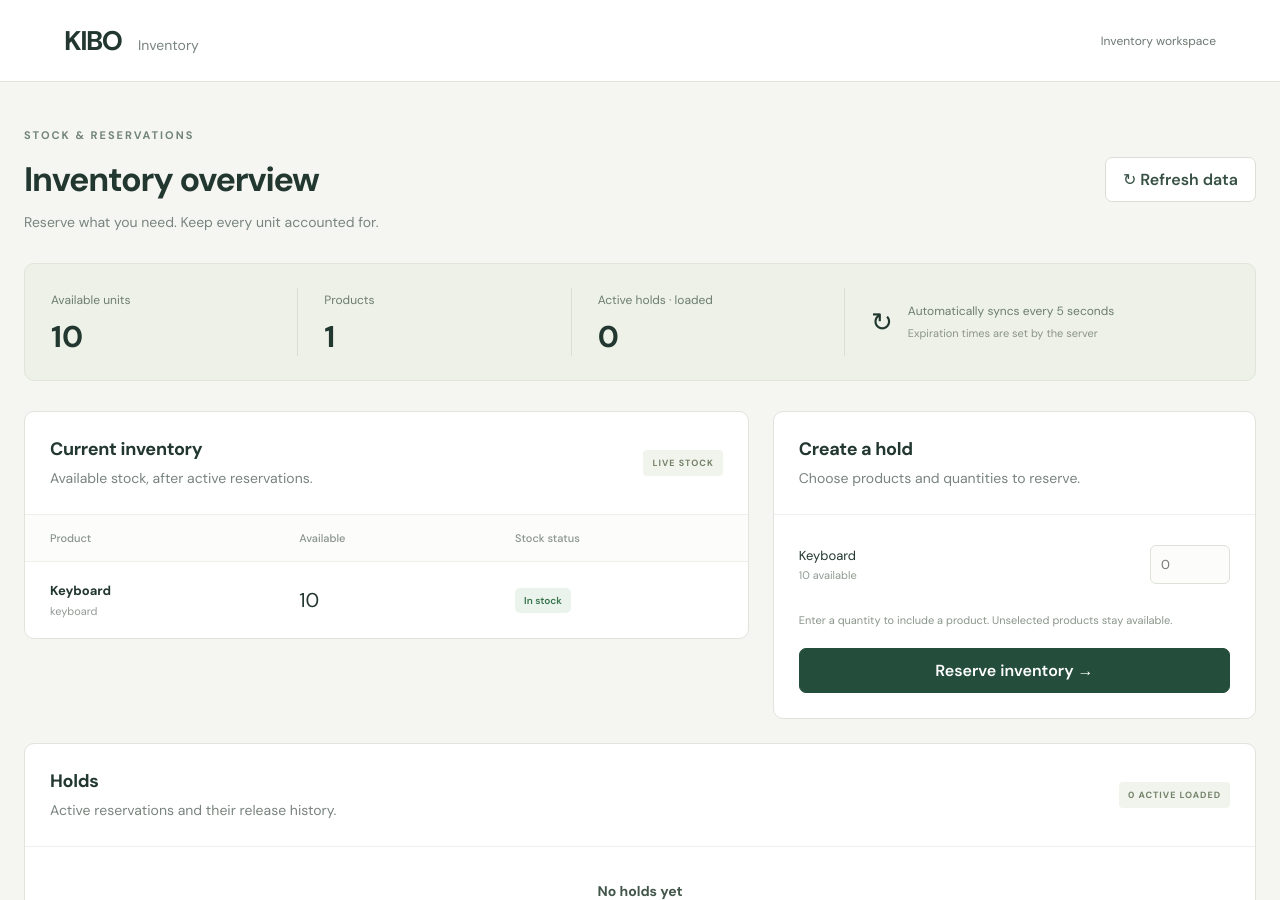
Test: inventory workflow › surfaces API errors and preserves the entered quantities
Type "2" into the number field named "Quantity for Keyboard" at (1190, 565), box 1150,545 -> 1230,584
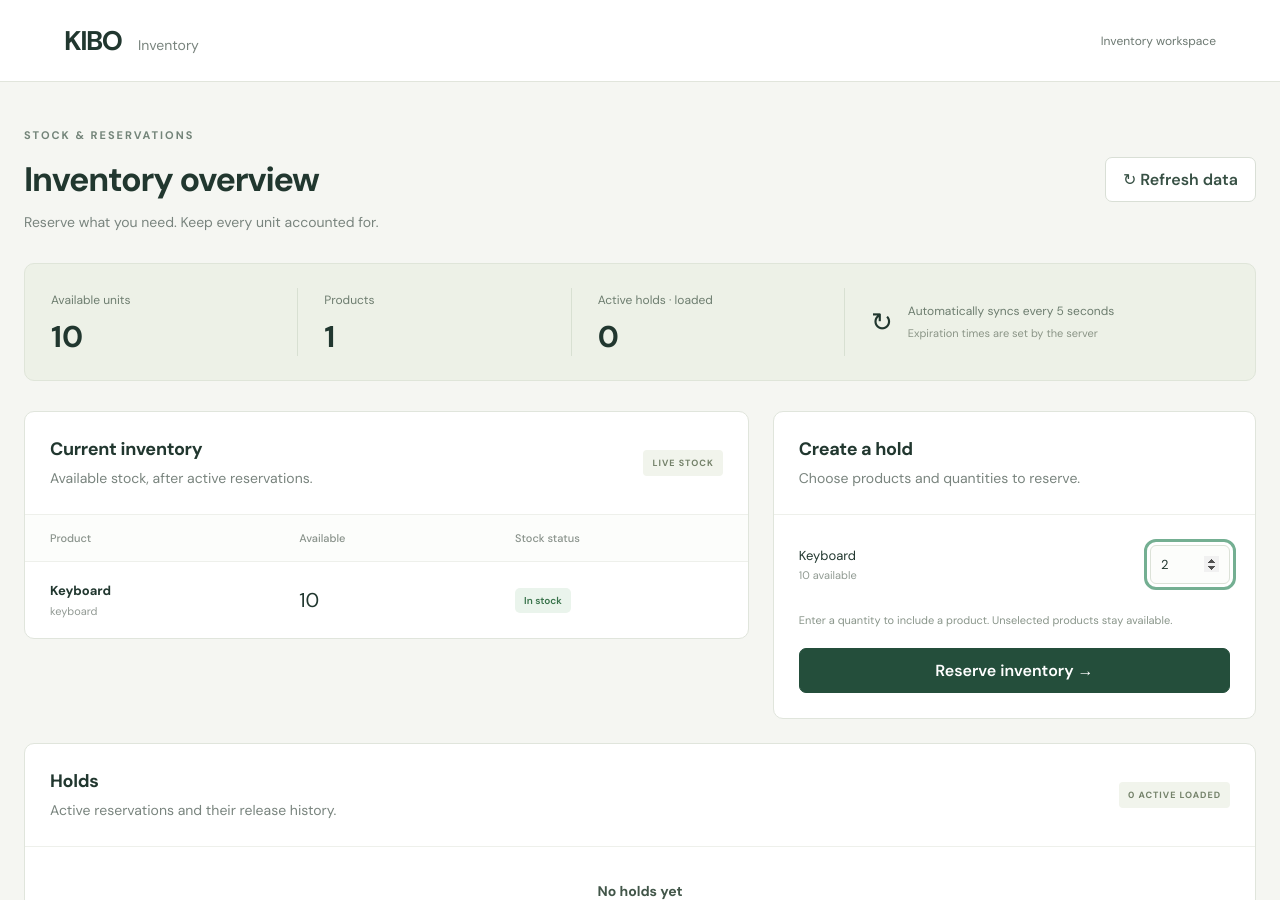
Click the button "Reserve inventory →" at (1014, 670), box 799,648 -> 1230,693
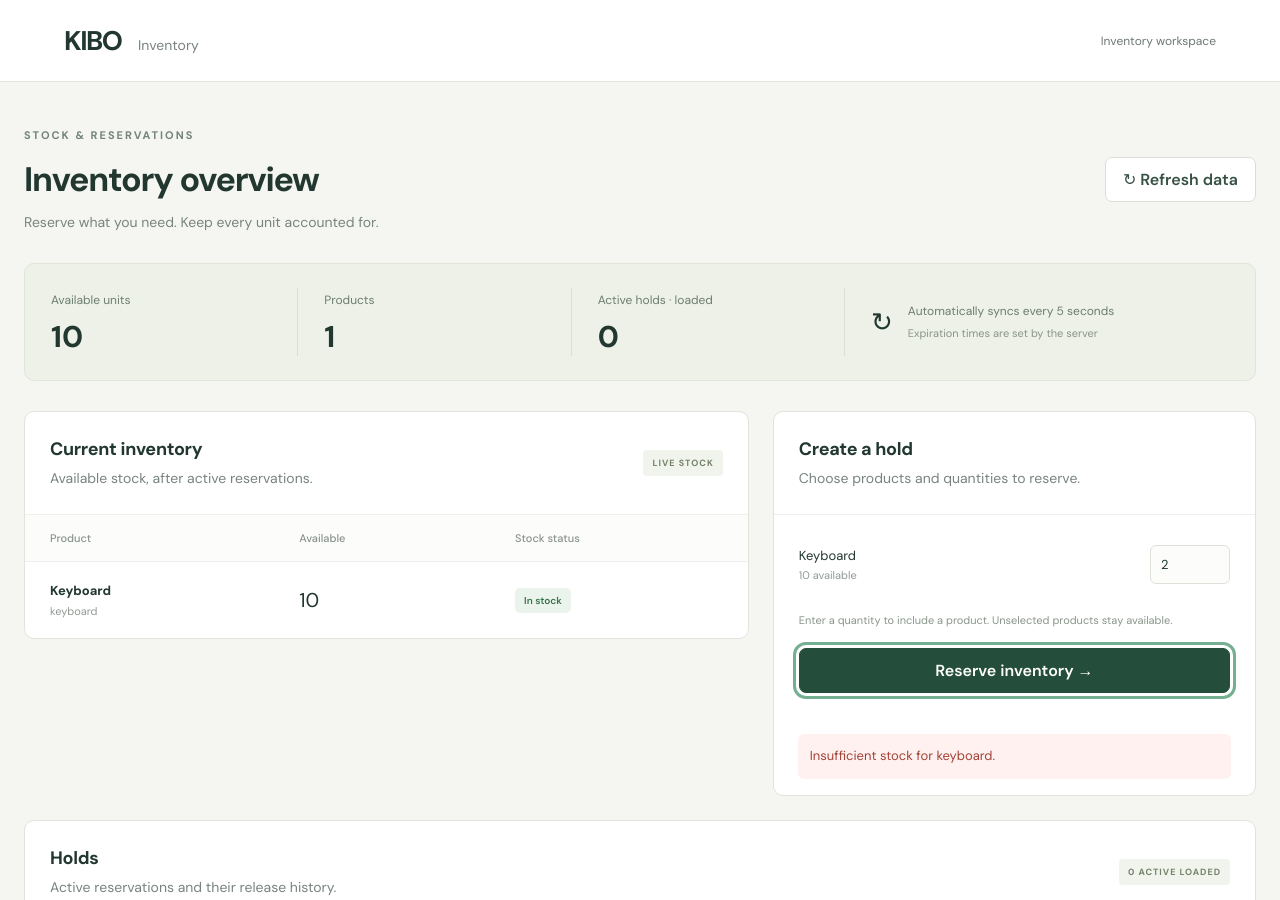
Expected: the message reads "Insufficient stock for keyboard.", 810,747 -> 995,764
